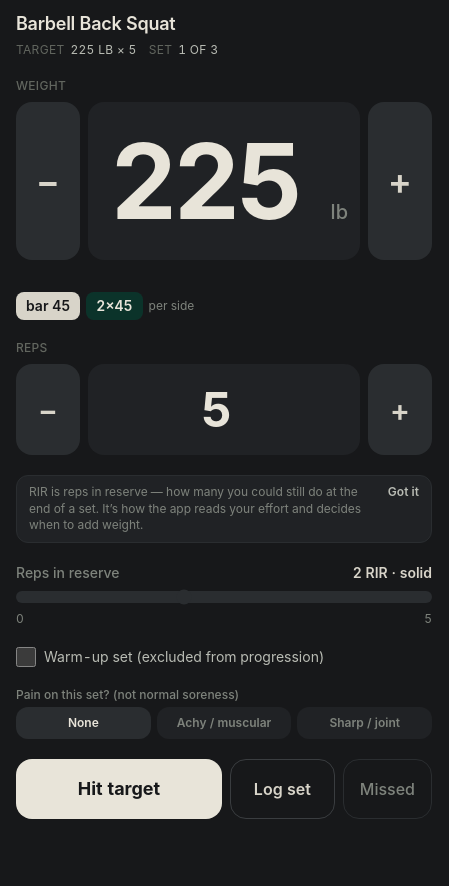
LogSet — reverse pyramid (custom set scheme) › drops the weight and adds reps after the top set
Click the button "Hit target".
click(119, 788)  # box [16,758,222,818]
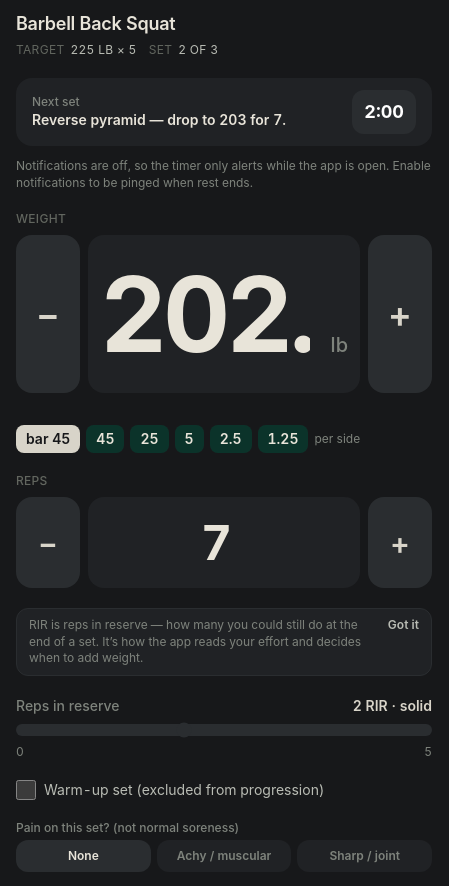
Result: the number field with test id "weight-input" holds "202.5" at [100,251,325,377]
Result: the number field with test id "reps-input" holds "7" at [100,513,348,572]
Result: the text "Reverse pyramid — drop to 203 for 7." is shown at [32,110,286,130]
